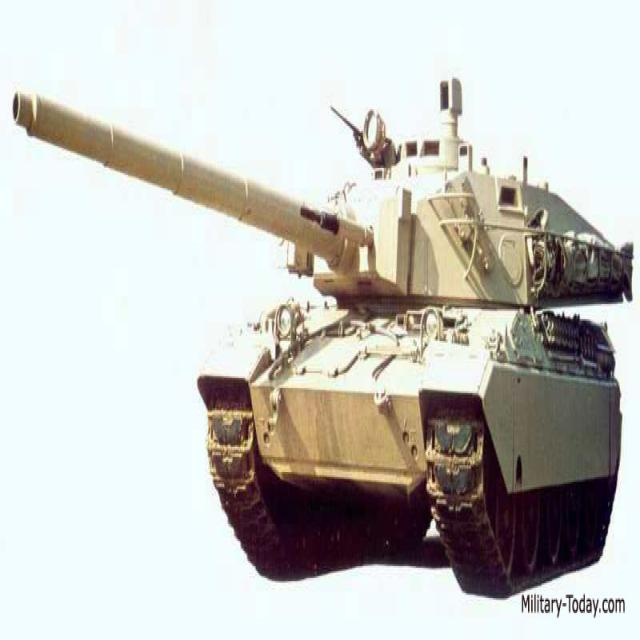Tank: (5, 25, 631, 596)
